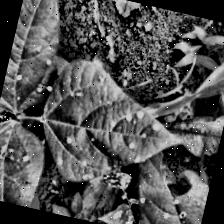Bean Rust: (31, 56, 198, 204), (0, 0, 76, 121), (123, 150, 214, 224), (0, 120, 46, 208)
